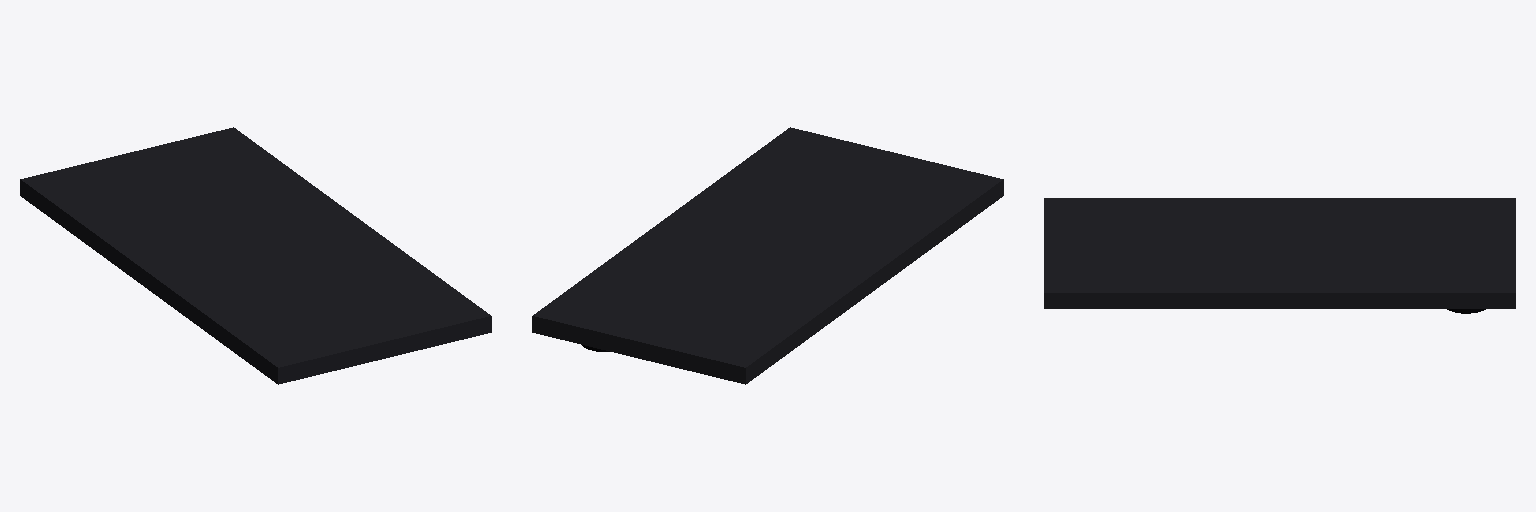
URDF robot description (iphone_air):
<?xml version="1.0"?>
<!-- iPhone Air: generated by imuninn from Apple's dimensional drawings (iphone-frames dataset). Frames: device = display centre on the front glass (x right, y top, z out of the screen); cam_*_optical = OpenCV axes. Geometry and mass are approximate. -->
<robot name="iphone_air">
  <material name="iphone_body">
    <color rgba="0.15 0.15 0.17 1" />
  </material>
  <material name="iphone_lens">
    <color rgba="0.05 0.05 0.06 1" />
  </material>
  <link name="device">
    <visual name="body">
      <origin xyz="-5e-06 5e-06 -0.00282" rpy="0 0 0" />
      <geometry>
        <box size="0.0747 0.15618 0.00564" />
      </geometry>
      <material name="iphone_body" />
    </visual>
    <collision name="body">
      <origin xyz="-5e-06 5e-06 -0.00282" rpy="0 0 0" />
      <geometry>
        <box size="0.0747 0.15618 0.00564" />
      </geometry>
    </collision>
    <visual name="lens_main">
      <origin xyz="0.021055 0.061805 -0.00848" rpy="0 0 0" />
      <geometry>
        <cylinder radius="0.00791" length="0.00568" />
      </geometry>
      <material name="iphone_lens" />
    </visual>
    <inertial>
      <origin xyz="-5e-06 5e-06 -0.00282" rpy="0 0 0" />
      <mass value="0.151" />
      <inertia ixx="0.000307335" ixy="0" ixz="0" iyy="7.06164e-05" iyz="0" izz="0.000377151" />
    </inertial>
  </link>
  <link name="magsafe" />
  <joint name="device_to_magsafe" type="fixed">
    <parent link="device" />
    <child link="magsafe" />
    <origin xyz="-5e-06 -0.000245 -0.00564" rpy="3.14159265 0 3.14159265" />
  </joint>
  <link name="cam_main_optical" />
  <joint name="device_to_cam_main_optical" type="fixed">
    <parent link="device" />
    <child link="cam_main_optical" />
    <origin xyz="0.021055 0.061805 -0.01132" rpy="3.14159265 0 -1.57079633" />
  </joint>
  <link name="cam_front_optical" />
  <joint name="device_to_cam_front_optical" type="fixed">
    <parent link="device" />
    <child link="cam_front_optical" />
    <origin xyz="0.007315 0.069165 0" rpy="0 0 -1.57079633" />
  </joint>
  <link name="imu" />
  <joint name="device_to_imu" type="fixed">
    <parent link="device" />
    <child link="imu" />
    <origin xyz="0 0 0" rpy="0 0 0" />
  </joint>
</robot>

--- Facts derived from the render (not from the file) ---
3 views of the same robot in one strip: view 1: azimuth 30°, elevation 25°; view 2: azimuth 150°, elevation 25°; view 3: azimuth 270°, elevation 25° (orthographic).
Model iphone_air with 5 links and 4 joints (4 fixed), rooted at device, posed all joints at 0.
Links seen in each view (by area): view 1: device; view 2: device; view 3: device.
Link boxes in pixels (<box>): device: <box>20,127,491,384</box>; device: <box>532,127,1003,384</box>; device: <box>1044,198,1515,313</box>.
Bounding box of the posed robot: 0.0747 × 0.1562 × 0.0113 m (x, y, z).
Geometry: primitives only (box / cylinder / sphere), no mesh files.
